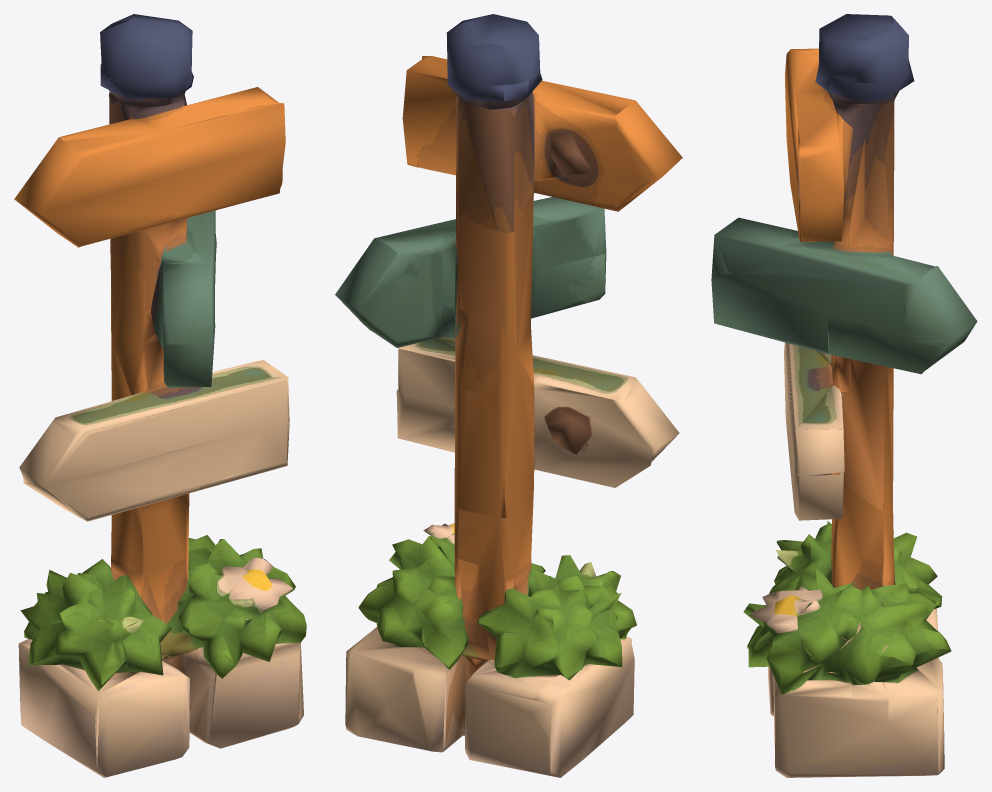
Rendered from M-5_09_signpost.glb.
3 renders of one model, left to right at view 1: azimuth 30°, elevation 25°; view 2: azimuth 150°, elevation 25°; view 3: azimuth 270°, elevation 25°, orthographic.
Parts seen in each view (by area): view 1: signpost; view 2: signpost; view 3: signpost.
Part boxes in pixels (x1,y1,x2,y2): signpost: (14, 14, 306, 777); signpost: (335, 14, 682, 777); signpost: (711, 14, 977, 777).
Size of the model in its own units: 1.58 by 3.8 by 1.31.
Materials: 1 (1 with a texture image).
